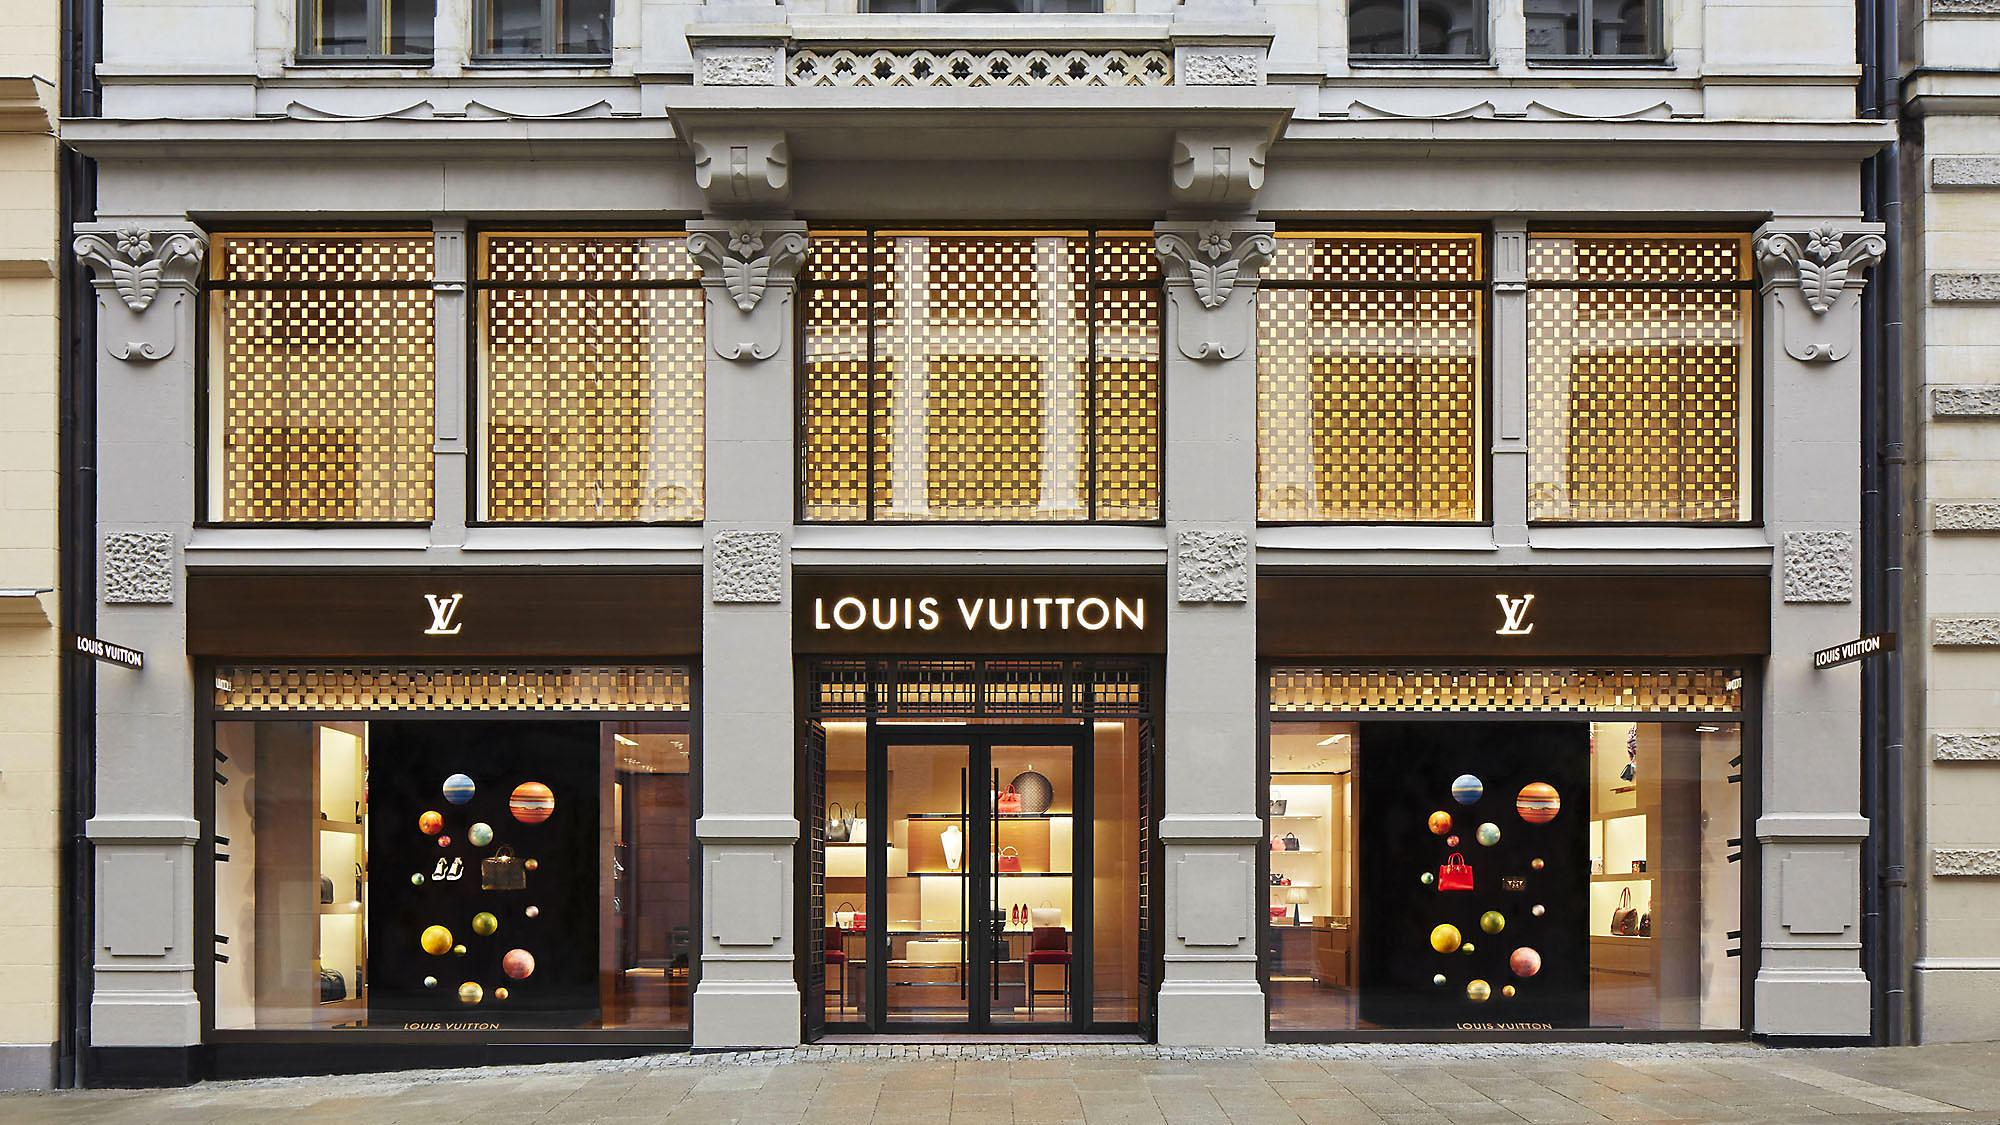LOUIS-VUITTON: (418, 591, 466, 637), (1490, 591, 1534, 637)
